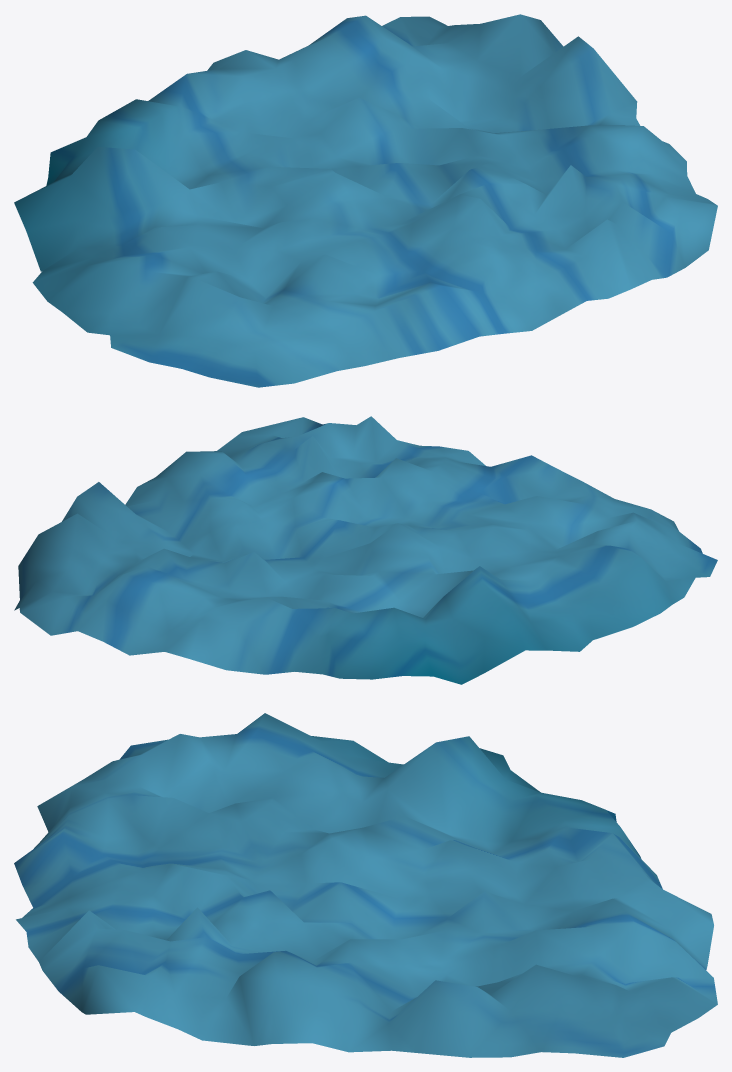
File: Algae_carpet.fbx
3 renders of one model, top to bottom at view 1: azimuth 30°, elevation 25°; view 2: azimuth 150°, elevation 25°; view 3: azimuth 270°, elevation 25°, orthographic. The views are drawn at different scales.
Parts seen in each view (by area): view 1: Plane.002; view 2: Plane.002; view 3: Plane.002.
Part boxes in pixels (left/top/right/bottom): Plane.002: left=14, top=14, right=717, bottom=387; Plane.002: left=14, top=416, right=717, bottom=684; Plane.002: left=14, top=713, right=717, bottom=1057.
Bounding box in the file's own units: 3.94 × 0.5344 × 3.66.
1 material, 1 textured.
